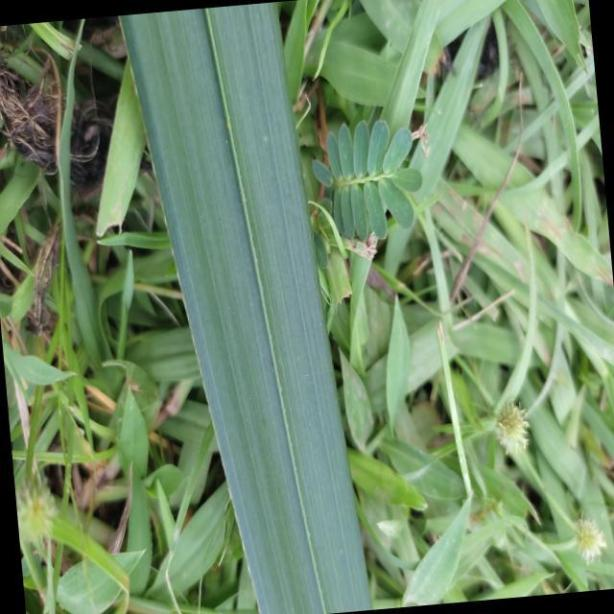Healthy: (115, 0, 374, 614)
